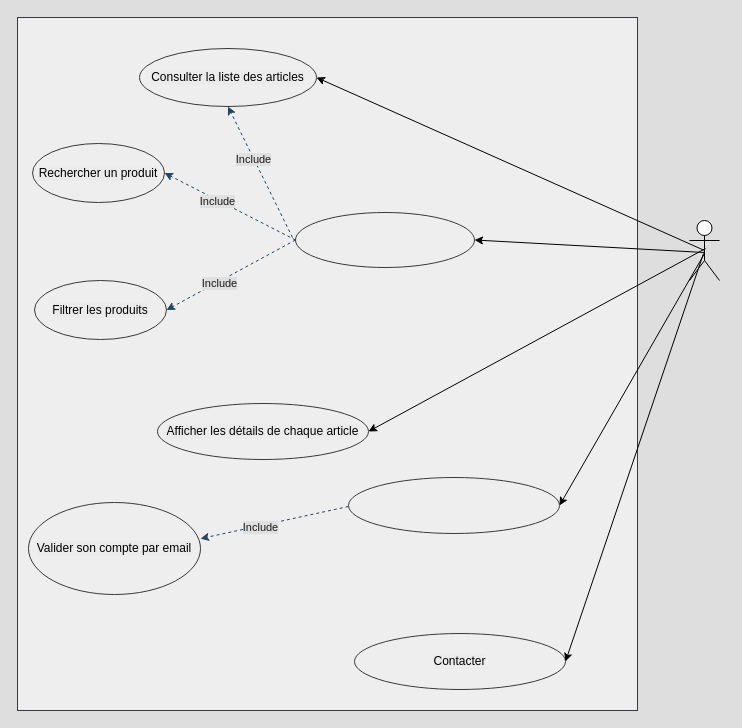
Some shapes in this 742 by 728 pixel diagram are drawn without their labels. The centre of each missing label's shape, as x and y in pixels:
"S'inscrire" goes at [454,505].
"Trouver un produit" goes at [384,240].
"Visiteur" goes at [704,250].
